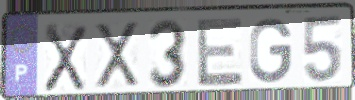3: (147, 18, 190, 91)
5: (301, 13, 344, 85)
E: (195, 15, 246, 90)
G: (248, 16, 295, 86)
X: (92, 19, 142, 91), (42, 22, 90, 94)
